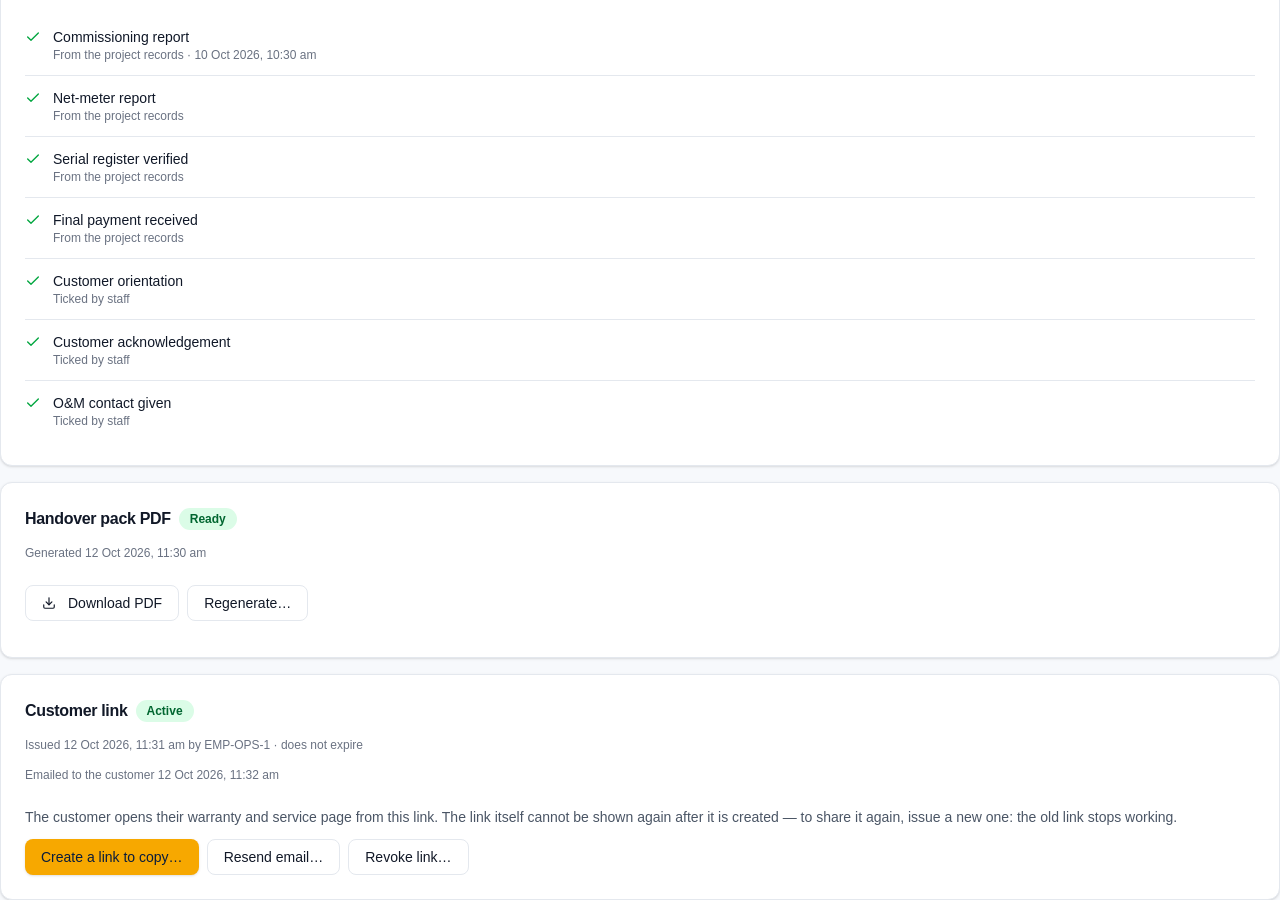
Test: Handover tab — PDF and customer link (W2, W3) › creating a link to copy warns that the old one stops, then shows the new one once
The image size is (1280, 900).
(page scrolled)
Click the button "Create a link to copy…" at (112, 857), box [25,839,199,875]
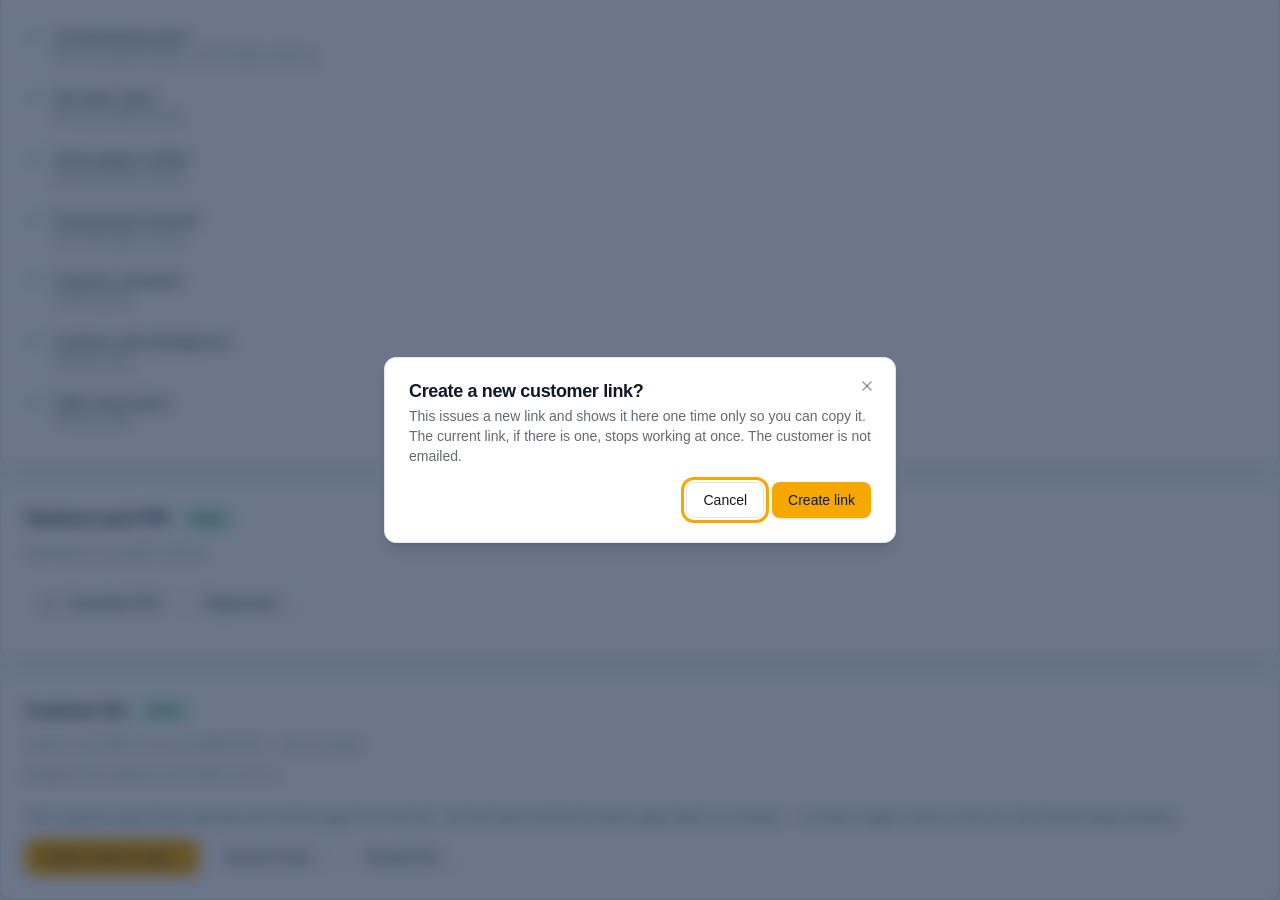
Now the dialog shows "stops working at once", box [409,408,871,464]
Click the button "Create link" at (822, 500), box [772,482,871,518]
(page scrolled)
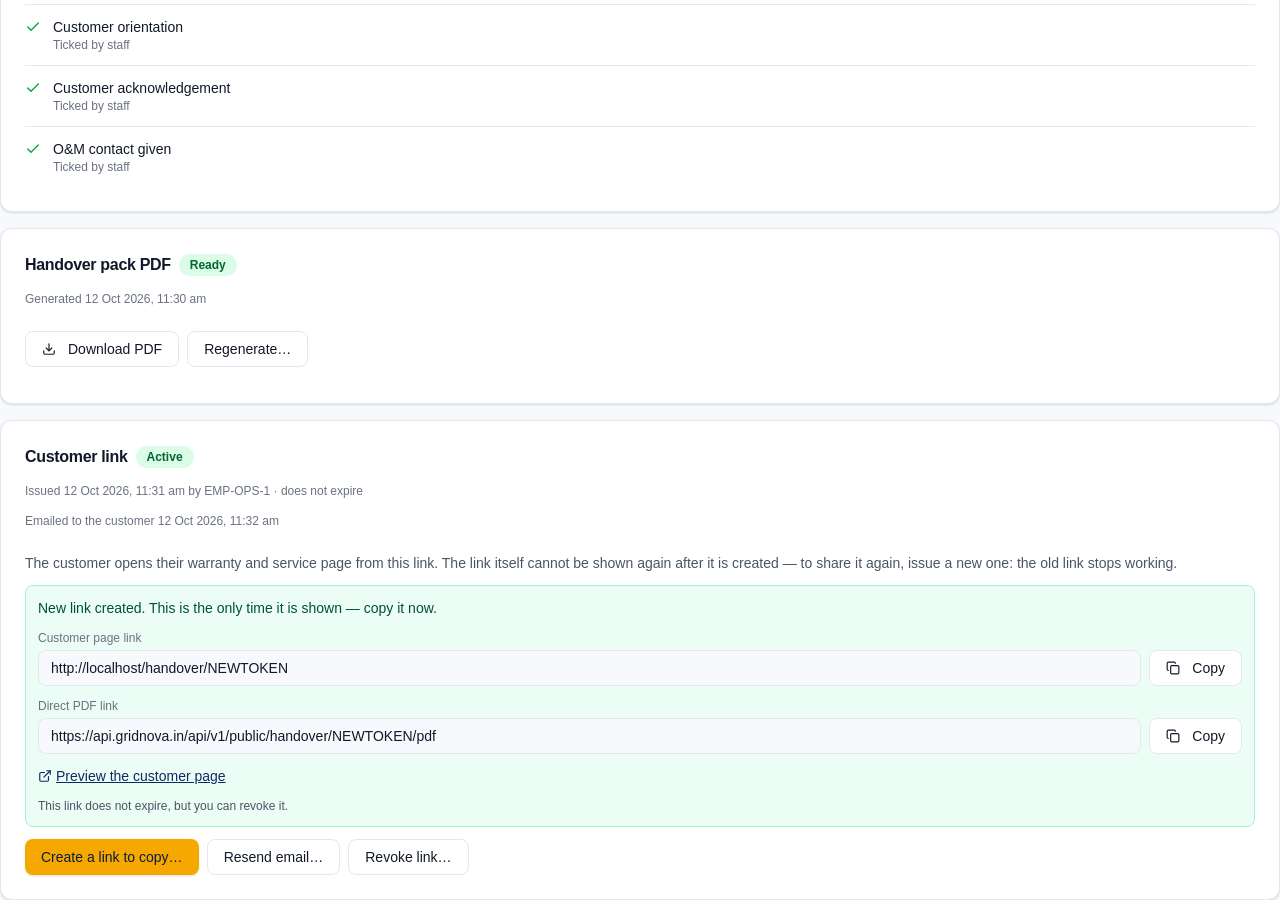
Now the message with test id "issued-link" shows "only time it is shown", box [38,600,437,616]
